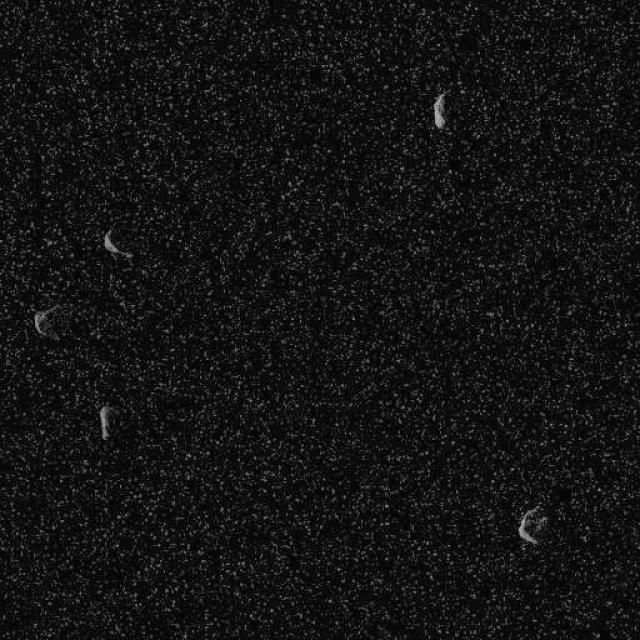D2: (516, 505, 548, 545), (32, 305, 60, 341), (101, 228, 132, 260), (96, 404, 114, 440), (432, 91, 448, 129)
